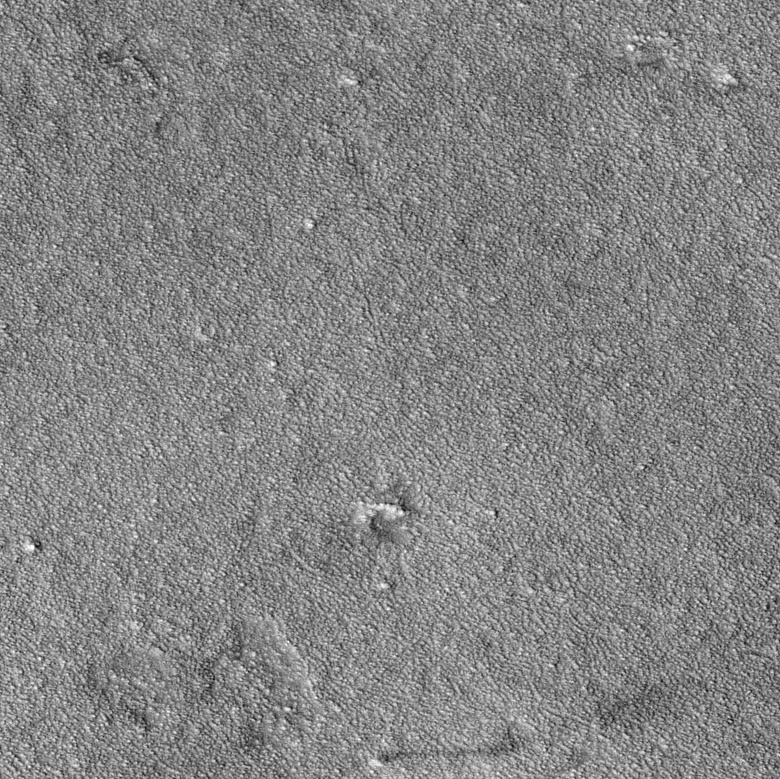dust_devil: (367, 731, 528, 770)
